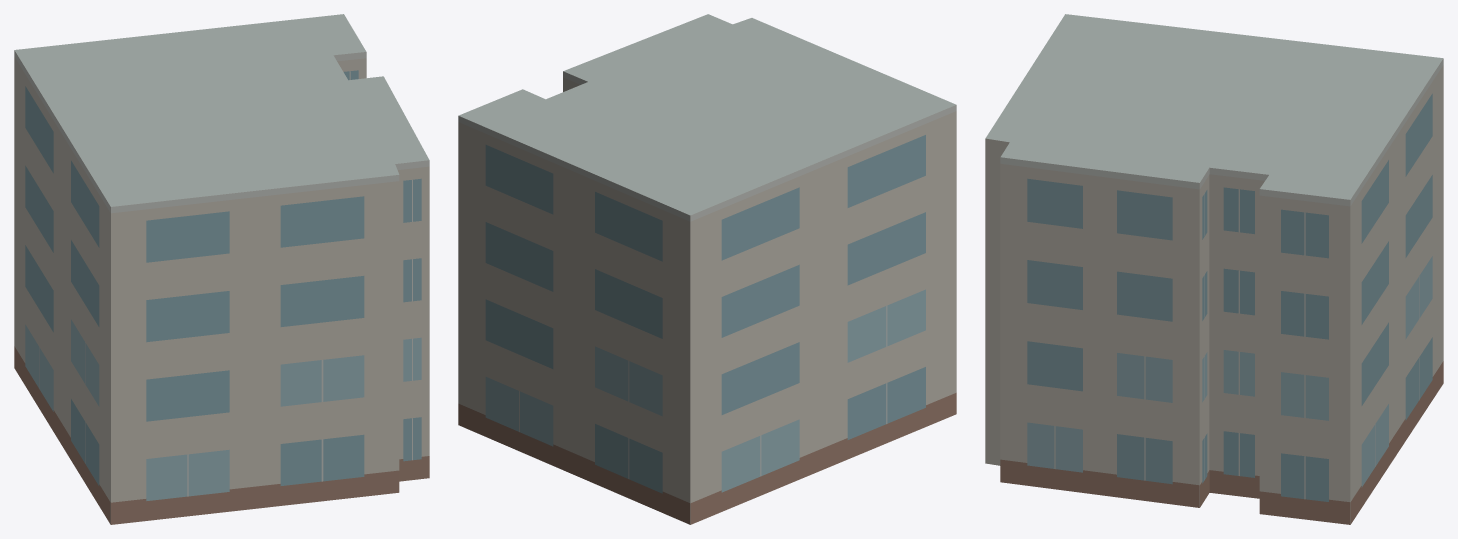
The model's file is survey-upis-32655036.glb.
The picture shows the model from 3 angles, left to right: view 1: azimuth 30°, elevation 25°; view 2: azimuth 150°, elevation 25°; view 3: azimuth 270°, elevation 25°; orthographic projection. The views are drawn at different scales.
Visible parts, largest first — view 1: survey-upis-32655036.tmp; view 2: survey-upis-32655036.tmp; view 3: survey-upis-32655036.tmp.
Boxes of the visible parts, x1,y1,x2,y2 form: survey-upis-32655036.tmp: (14, 14, 429, 524); survey-upis-32655036.tmp: (458, 14, 956, 524); survey-upis-32655036.tmp: (985, 14, 1443, 524).
Bounding box in the file's own units: 14.98 × 12.2 × 15.6.
